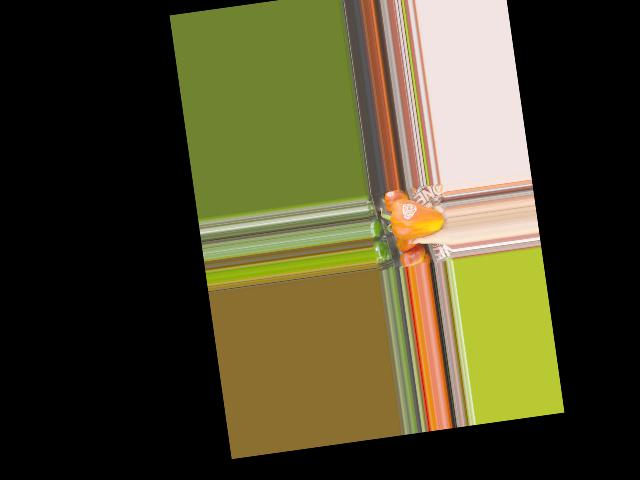bell_pepper: (378, 192, 445, 247)
